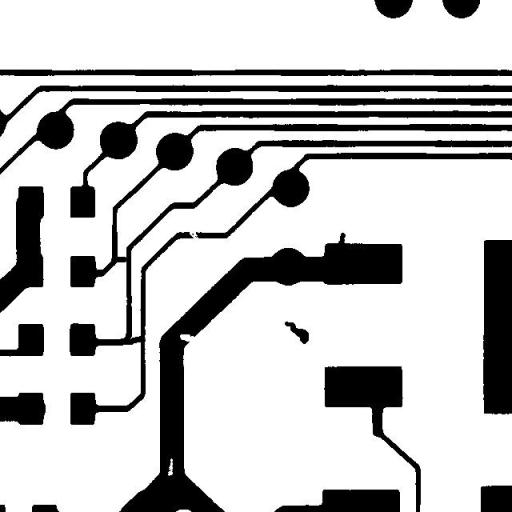copper: (277, 314, 316, 351)
mousebite: (172, 326, 202, 349)
open: (180, 222, 207, 248)
pin-hole: (160, 450, 180, 484)
short: (111, 328, 151, 352), (104, 248, 134, 270)
spur: (330, 225, 353, 254)
